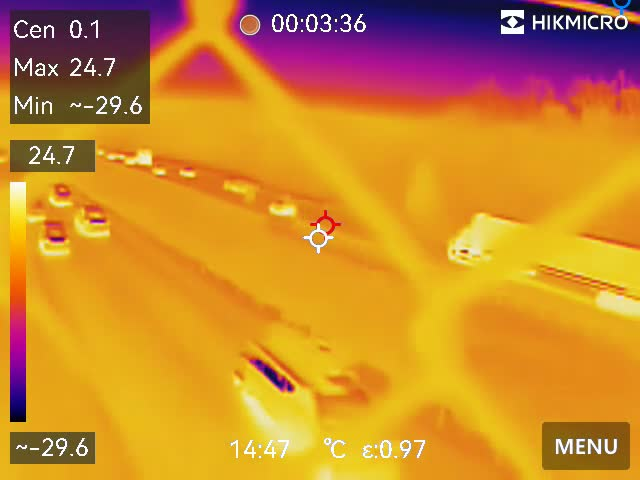heavyTruck: (449, 205, 640, 311)
